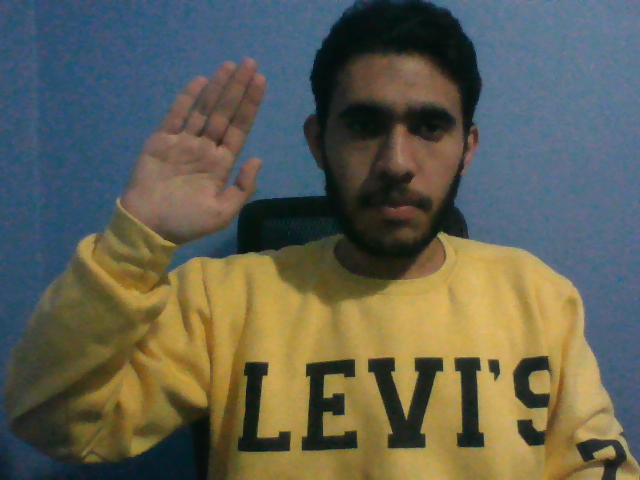hello: (111, 53, 271, 256)
